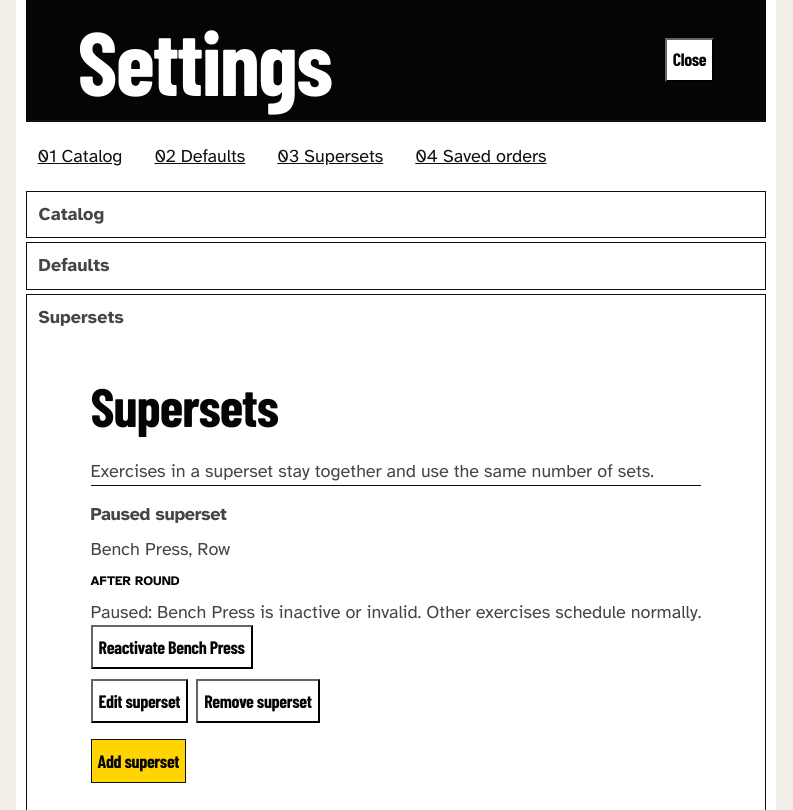
Test: Settings tracking configuration › counts only eligible selected members and keeps a paused edit recoverable
Expected: the text "Paused superset" is shown, x1=91 y1=502 x2=227 y2=524
Click the button "Edit superset".
click(139, 701)  # box x1=91 y1=679 x2=188 y2=723
(page scrolled)
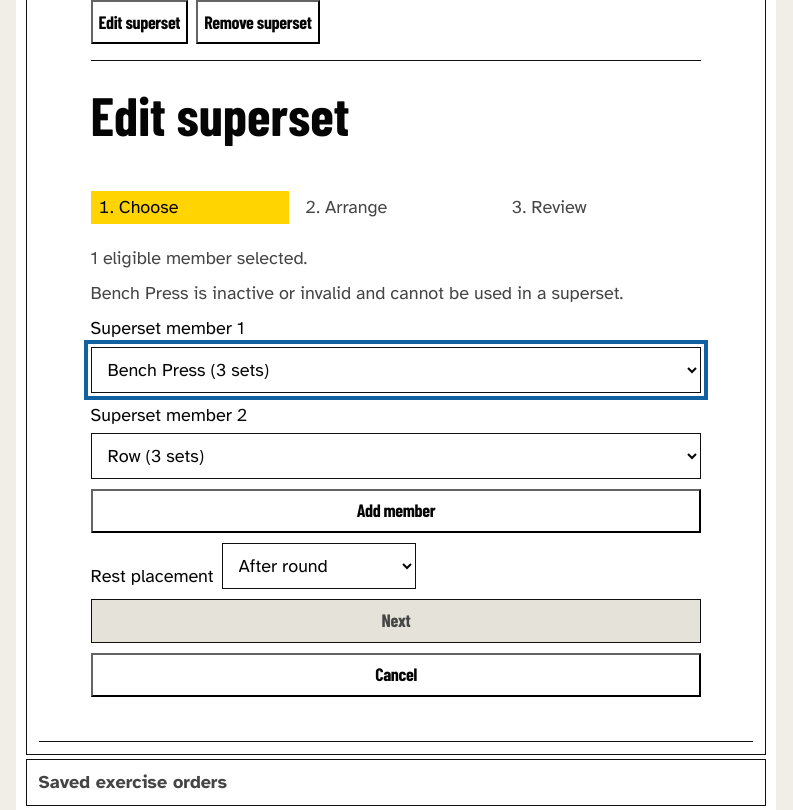
Expected: the text "1 eligible member selected." is shown, x1=91 y1=247 x2=307 y2=269
Expected: the text "Bench Press is inactive or invalid and cannot be used in a superset." is shown, x1=91 y1=281 x2=701 y2=306
Expected: the button "Next" is disabled, x1=91 y1=599 x2=701 y2=643
